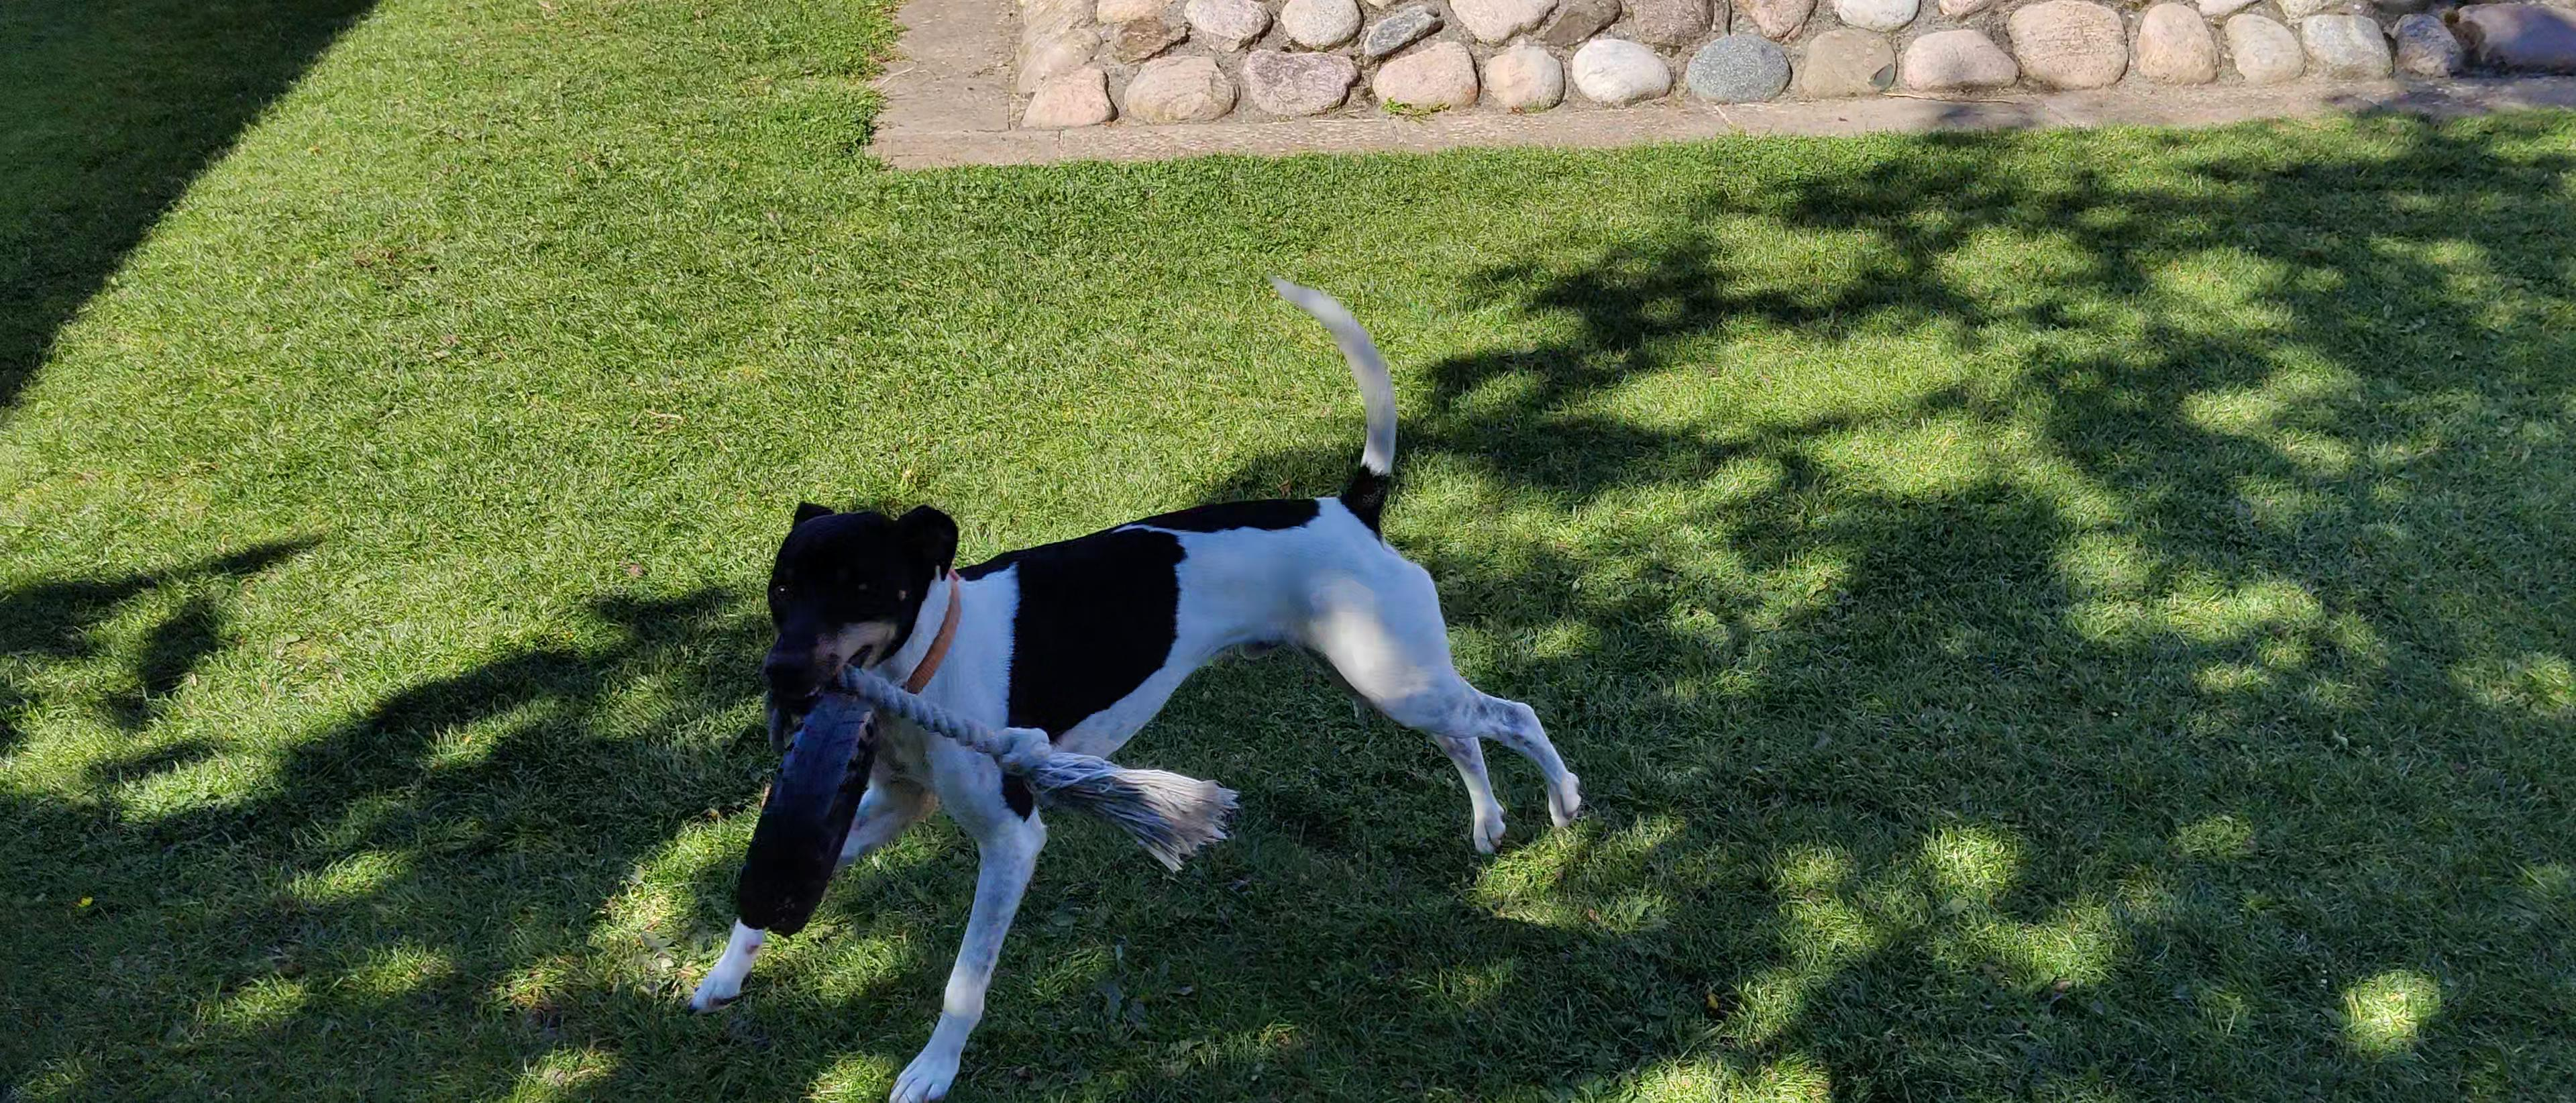Dog: (680, 260, 1595, 1103)
